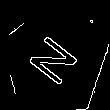N_SE: (24, 29, 86, 92)
